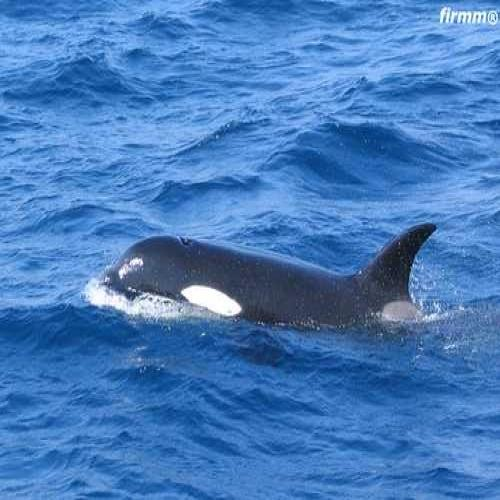killer_whale-endangered: (80, 211, 453, 375)
